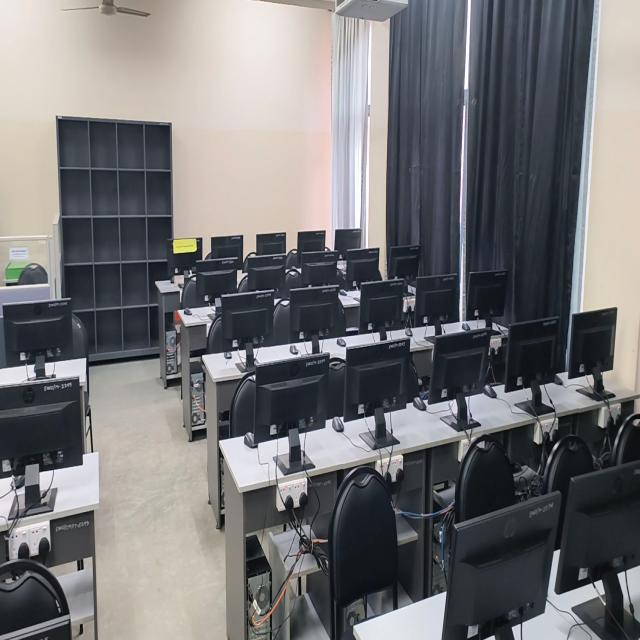Chair: (332, 470, 396, 631), (0, 546, 63, 630), (455, 437, 516, 516), (550, 428, 590, 479), (610, 408, 640, 461), (228, 370, 254, 429), (328, 356, 344, 414), (273, 299, 288, 343), (180, 274, 195, 312), (207, 313, 220, 354), (286, 268, 300, 288)
Cpu: (247, 536, 272, 640), (189, 361, 202, 428), (164, 319, 177, 384)
Monitor: (444, 490, 562, 640), (0, 369, 81, 518), (570, 472, 640, 640), (256, 354, 328, 473), (343, 340, 411, 450), (4, 297, 68, 385), (429, 329, 490, 419), (505, 314, 561, 398), (567, 308, 620, 384), (221, 296, 275, 347), (290, 287, 338, 336), (414, 274, 459, 322), (469, 270, 507, 320), (362, 284, 405, 328), (196, 264, 238, 298), (248, 264, 286, 295), (388, 244, 420, 278), (304, 256, 338, 287), (168, 239, 204, 268), (347, 251, 380, 281), (297, 226, 326, 256), (211, 237, 243, 262), (255, 236, 290, 257), (336, 229, 363, 249)
Mouse: (412, 391, 428, 417), (243, 428, 258, 454), (484, 379, 498, 401), (332, 415, 345, 437), (402, 324, 414, 338), (288, 344, 300, 357), (336, 336, 348, 349)
